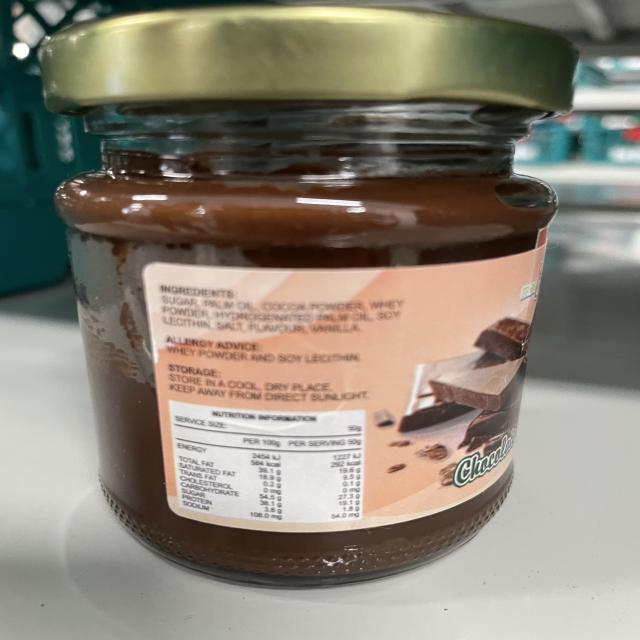object_name: (54, 18, 530, 583)
